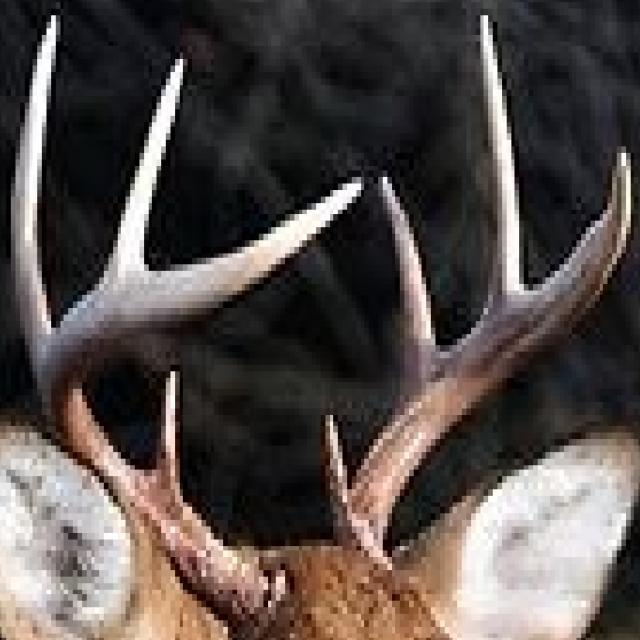L-F: (333, 141, 636, 565)
L-G1: (323, 411, 349, 528)
L-G2: (377, 173, 441, 404)
L-G3: (478, 9, 528, 311)
R-F: (33, 174, 364, 636)
R-G1: (153, 366, 183, 497)
R-G2: (9, 14, 62, 388)
R-G3: (95, 52, 187, 287)
